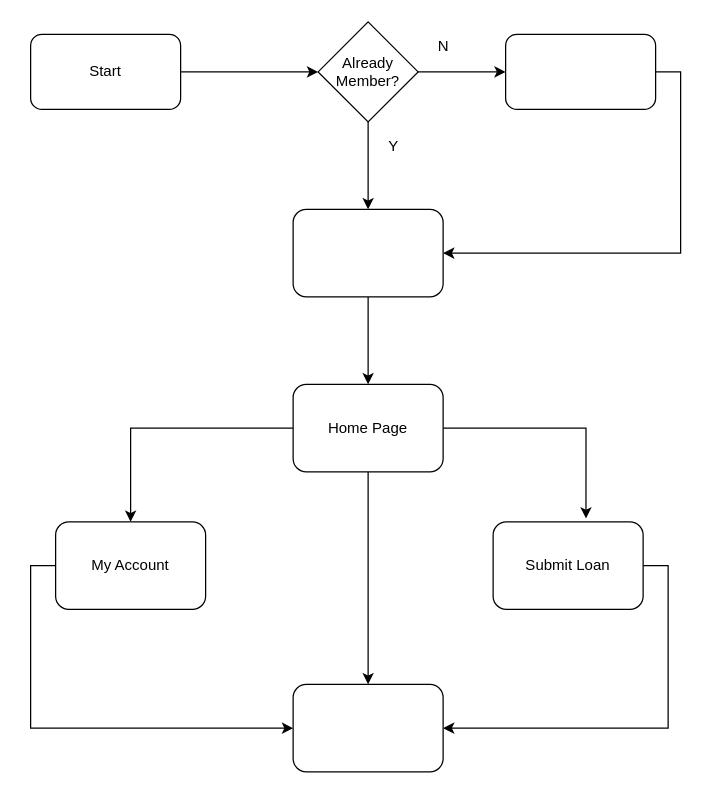
The diagram is 713 pixels wide and 794 high, and some of its shapes have lost their labels. The box of each missing label's shape, as (x1, y1, x2, y2) in pixels:
Login: (292, 208, 443, 297)
Logout: (292, 683, 443, 772)
Register: (504, 33, 656, 109)
